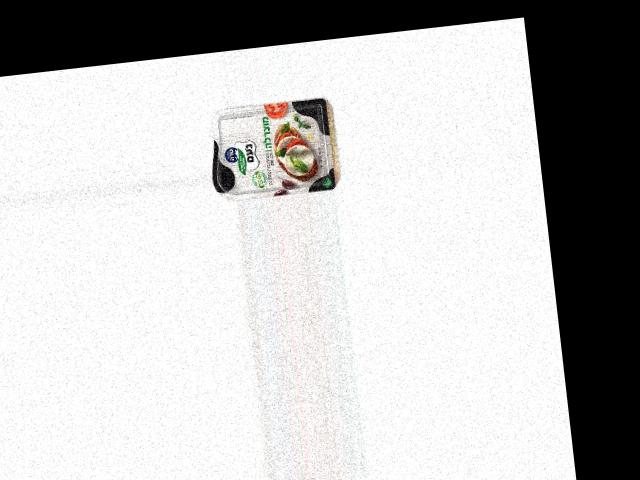cheese: (206, 96, 337, 202)
